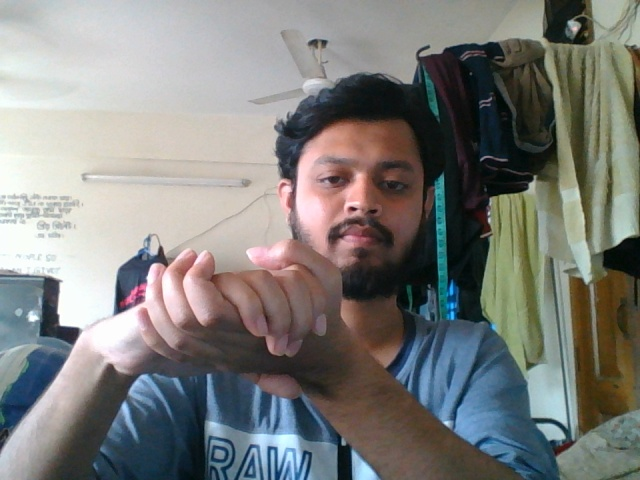bondhu: (36, 234, 463, 467)
